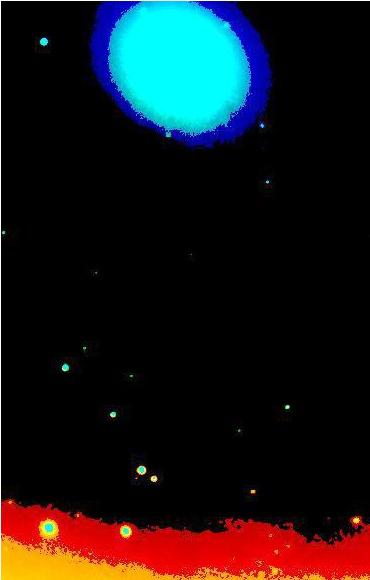star: (155, 120, 185, 150)
